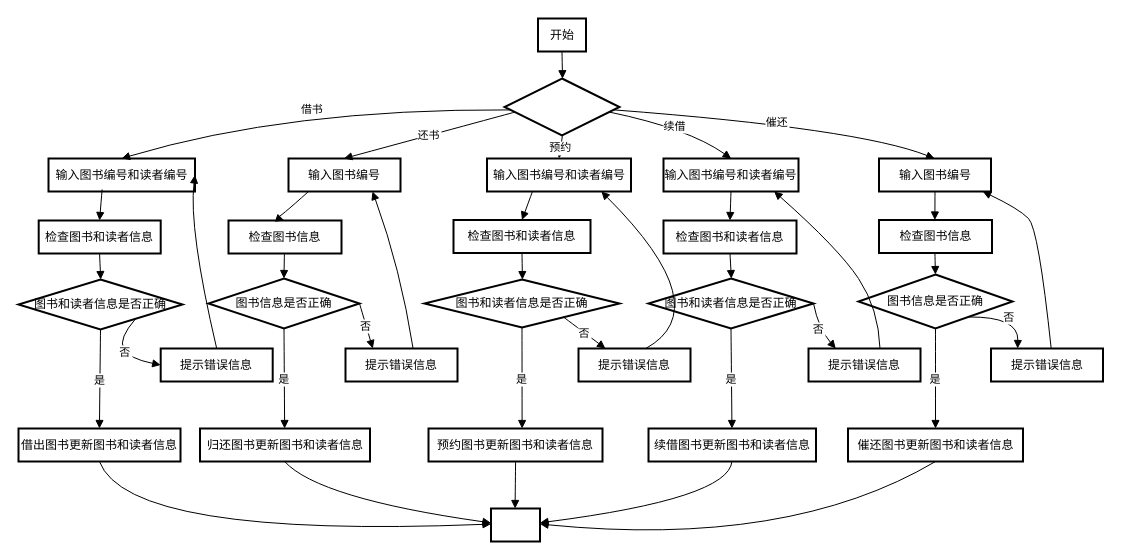
This 1121x559 diagram has some shape labels left out. Here are the shapes that lost their labels. From the top down, the centre of each, then its label:
the point at 561,106: 选择操作
the point at 515,524: 结束
